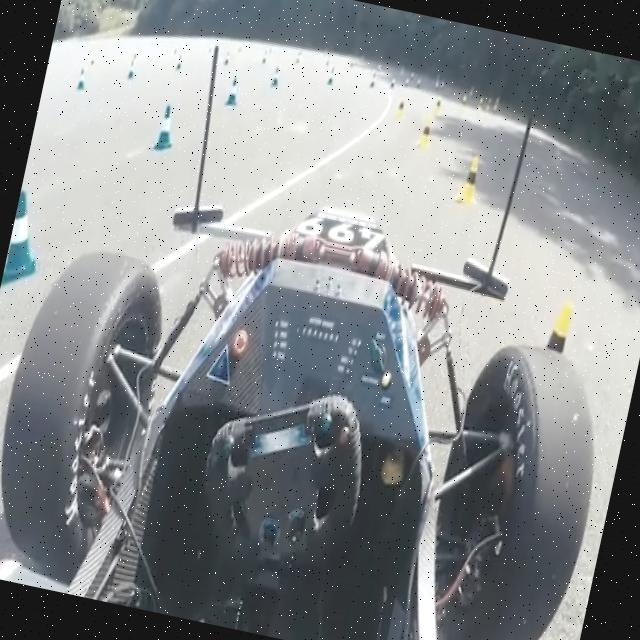blue_cone: (1, 189, 51, 290), (152, 102, 181, 154), (223, 75, 242, 108)
yellow_cone: (452, 153, 486, 209), (417, 114, 438, 152)
